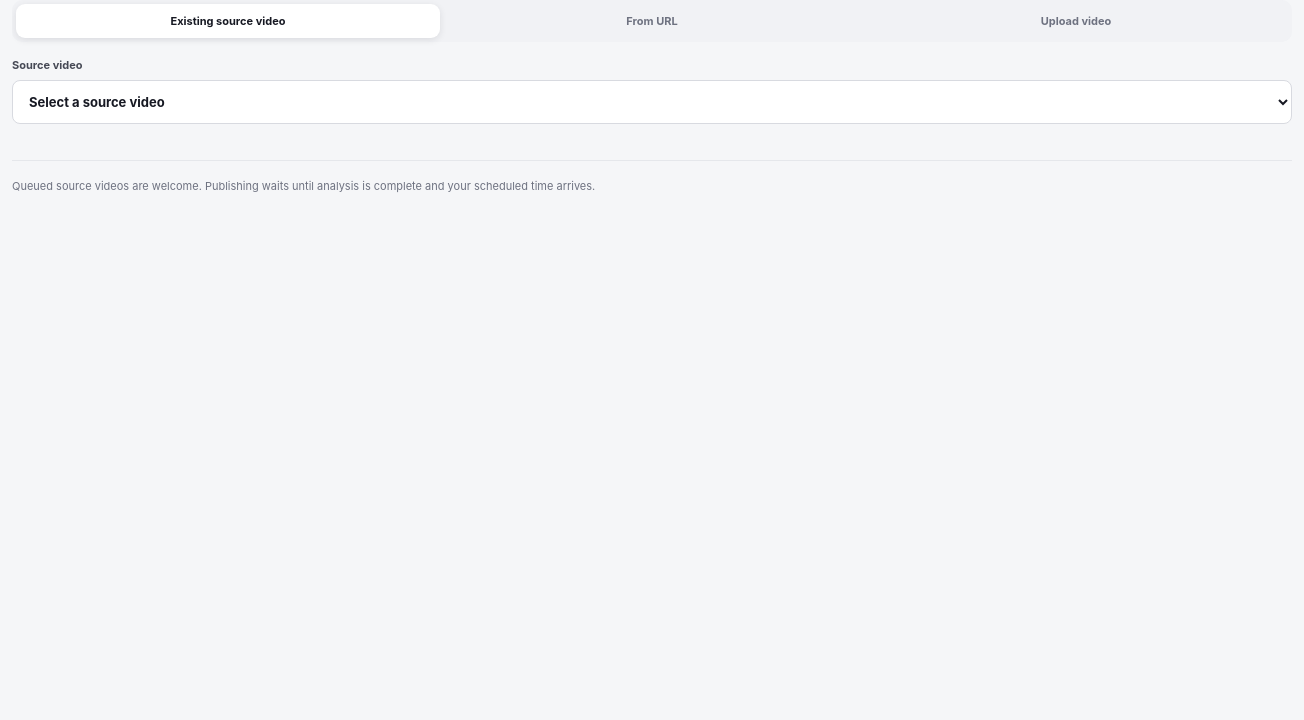
Test: automation source › keeps the form available when importing fails
The width and height of the screenshot is (1304, 720).
Step 1. Click the button "From URL" → (652,21), box x1=440 y1=4 x2=864 y2=38
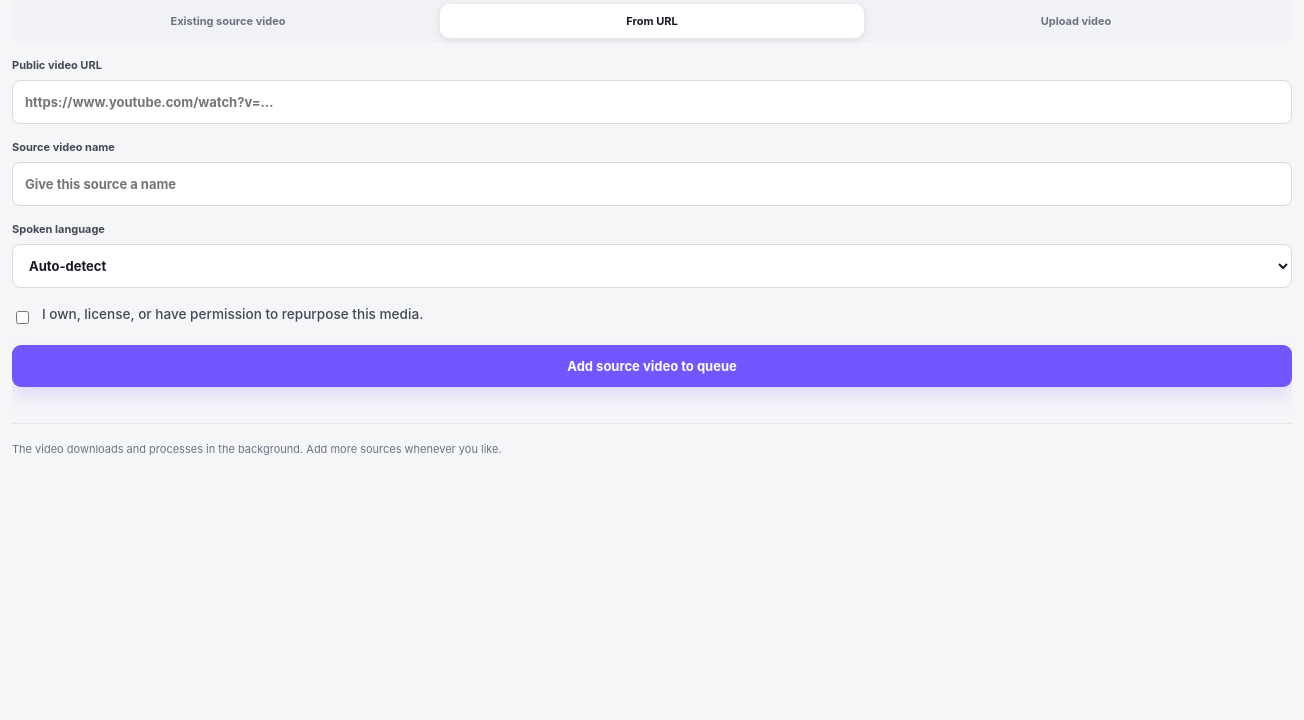
Step 2. Type "https://example.com/video" into the field labelled "Public video URL" → (652,102), box x1=12 y1=80 x2=1292 y2=124
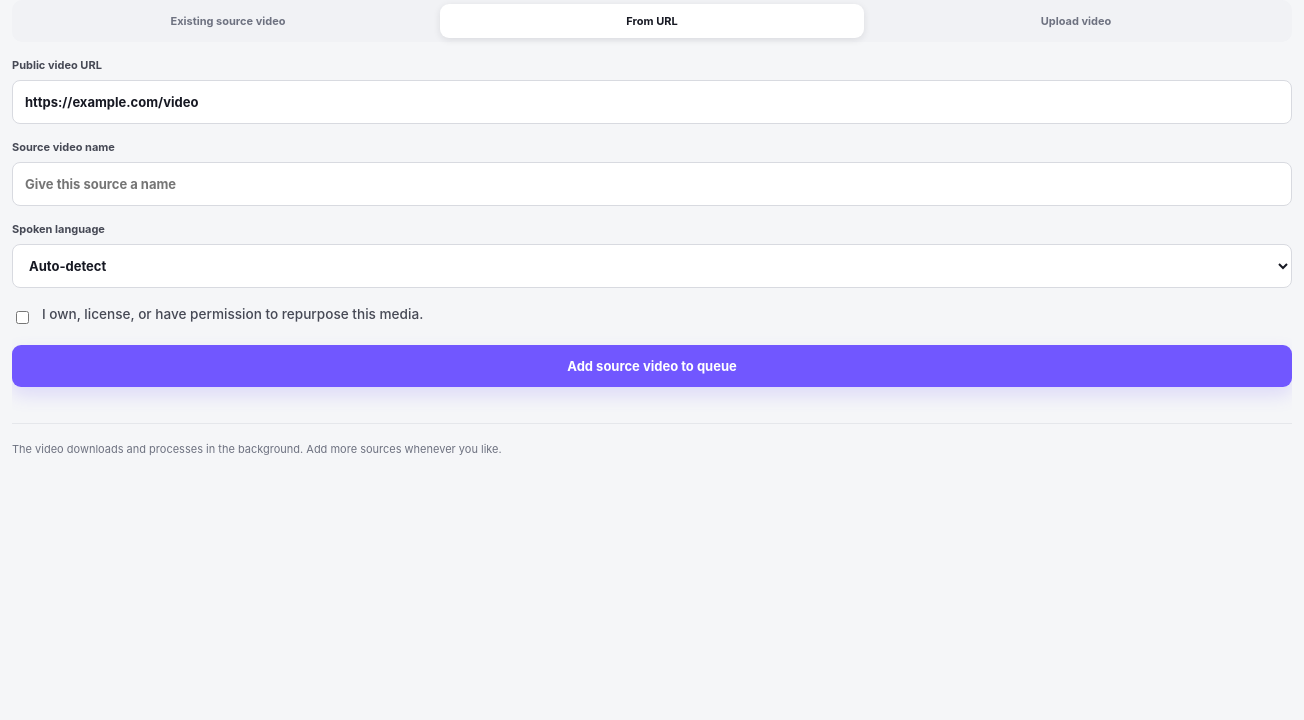
Step 3. Type "Interview" into the field labelled "Source video name" → (652,184), box x1=12 y1=162 x2=1292 y2=206
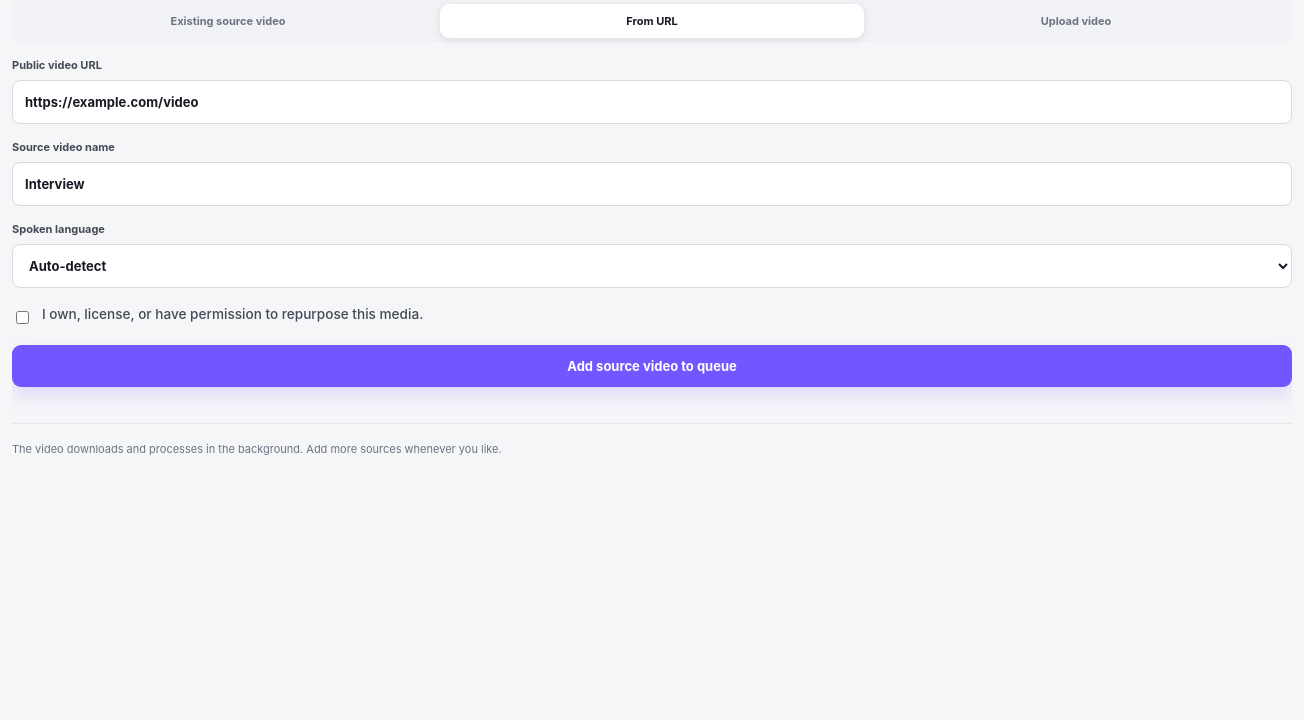
Step 4. Submit the form named "Add source video to queue", box x1=12 y1=58 x2=1292 y2=458
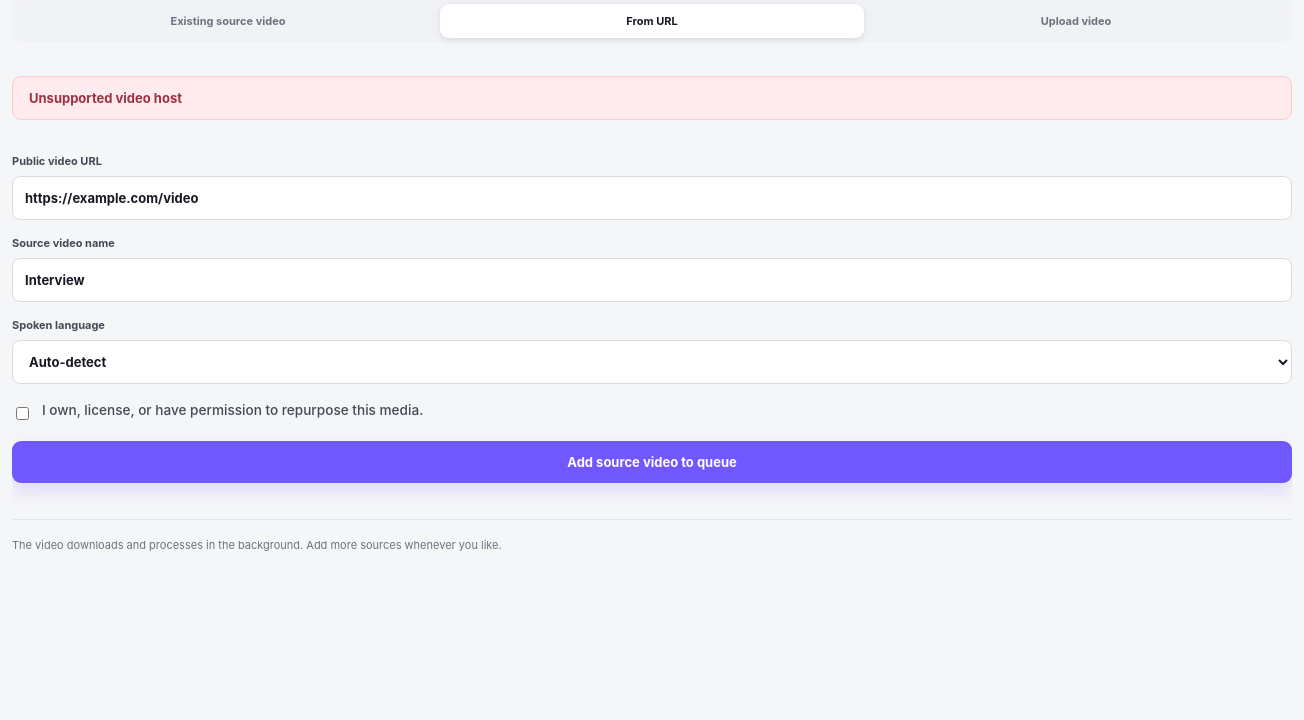
Now the message reads "Unsupported video host", box x1=29 y1=90 x2=182 y2=106
